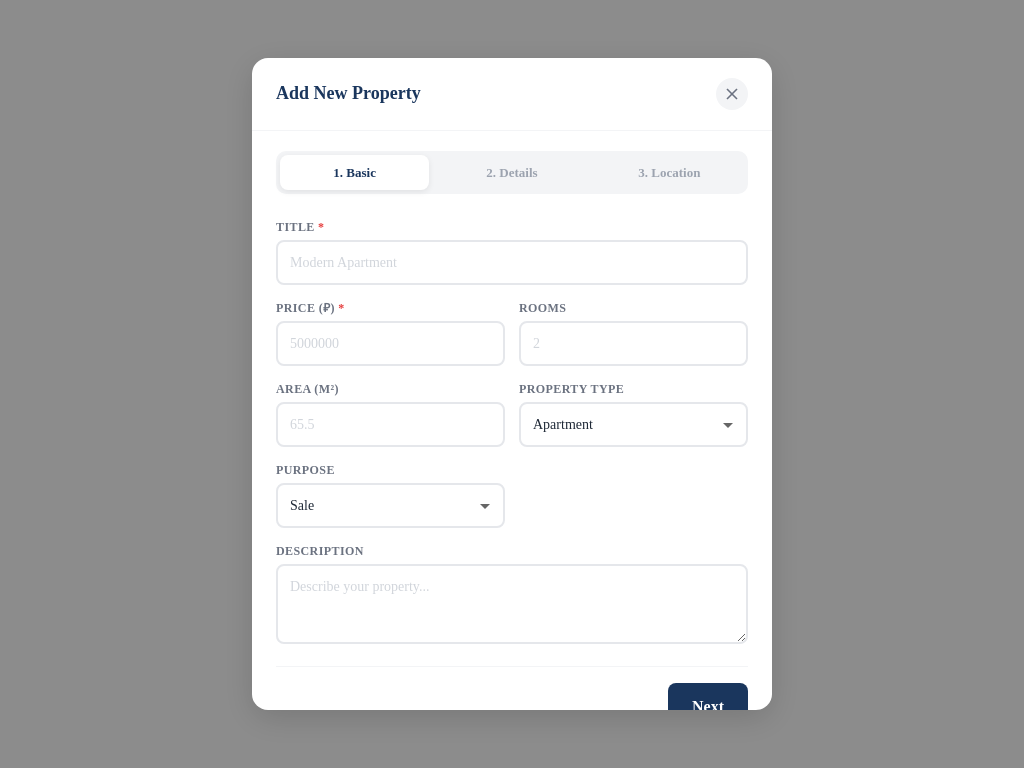
it: PropertyFormModal › Step navigation › advances to step 2 on Next
Click the button "Next" at {"x": 708, "y": 707}, box [668,683,748,731]
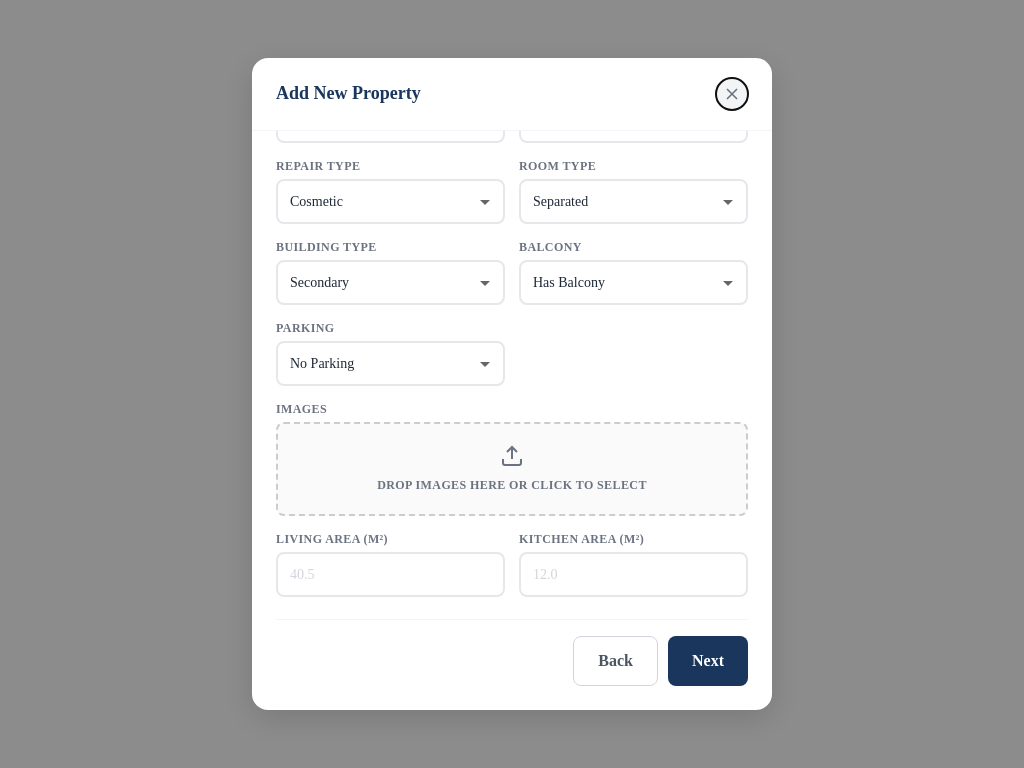
Result: the button "Back" is shown at [573,636,658,686]
